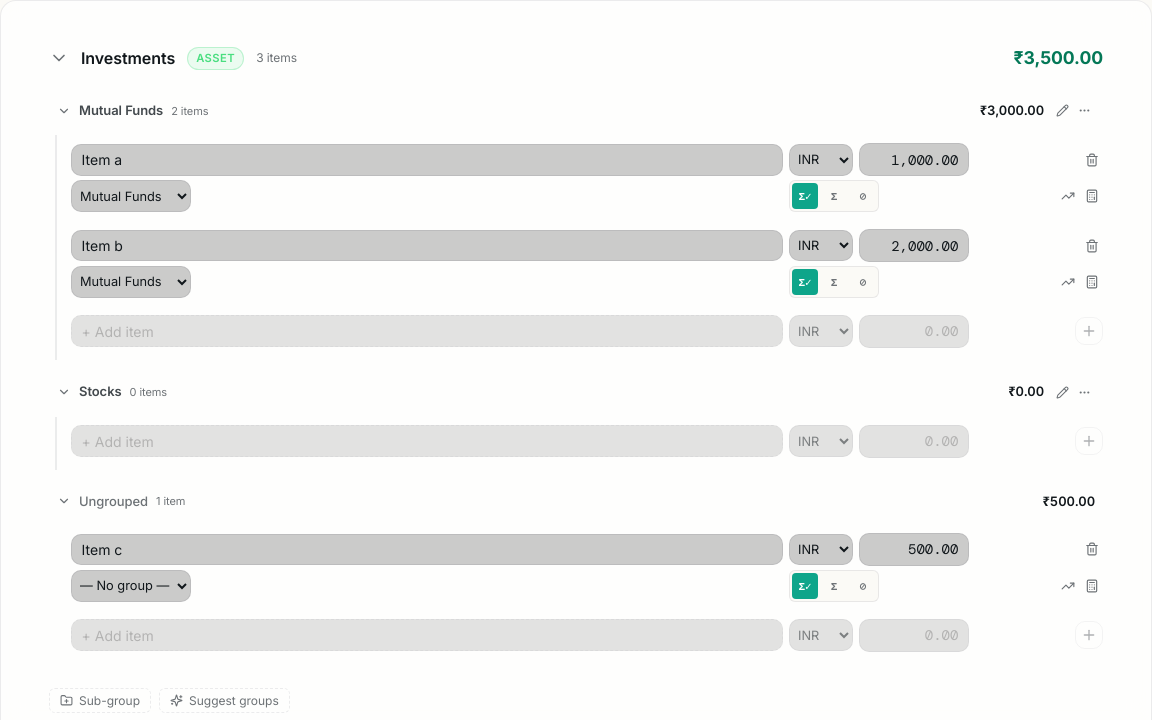
Scenario: CategorySection with sub-categories › collapses a group but keeps its header and subtotal visible
Click the button named "Collapse Mutual Funds" at (64, 111), box [57,104,71,118]
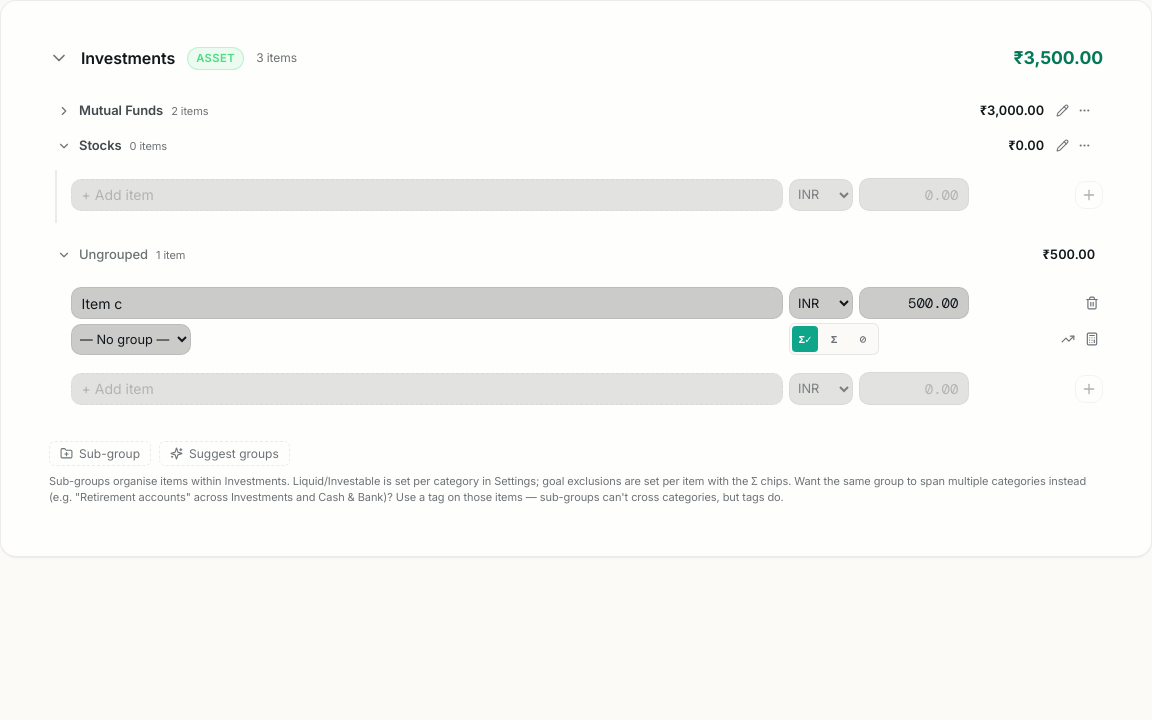
Now the button named "Expand Mutual Funds" is shown, box [57,104,71,118]
